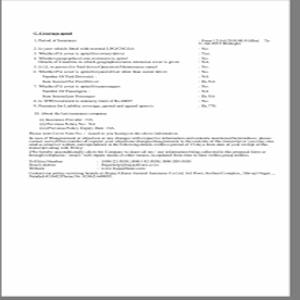text: (30, 24, 272, 131), (27, 132, 276, 181)
